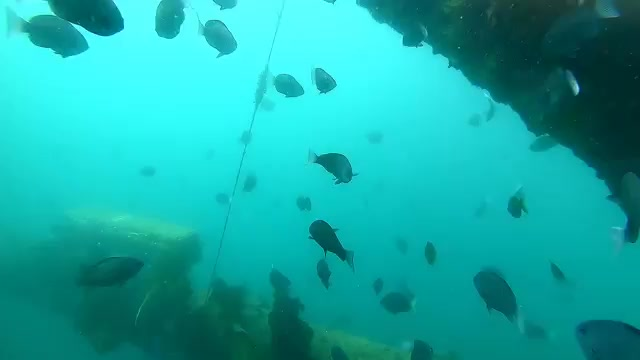smallfish: (455, 268, 542, 330), (300, 146, 381, 198), (299, 214, 365, 269), (71, 247, 145, 289), (305, 62, 357, 112), (193, 13, 242, 59), (485, 193, 538, 228), (262, 67, 310, 99), (378, 288, 428, 317)
